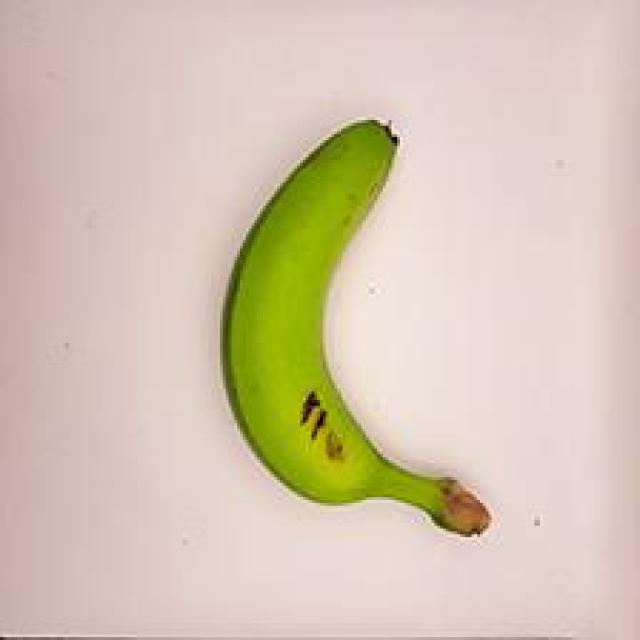unripe: (184, 84, 536, 576)
